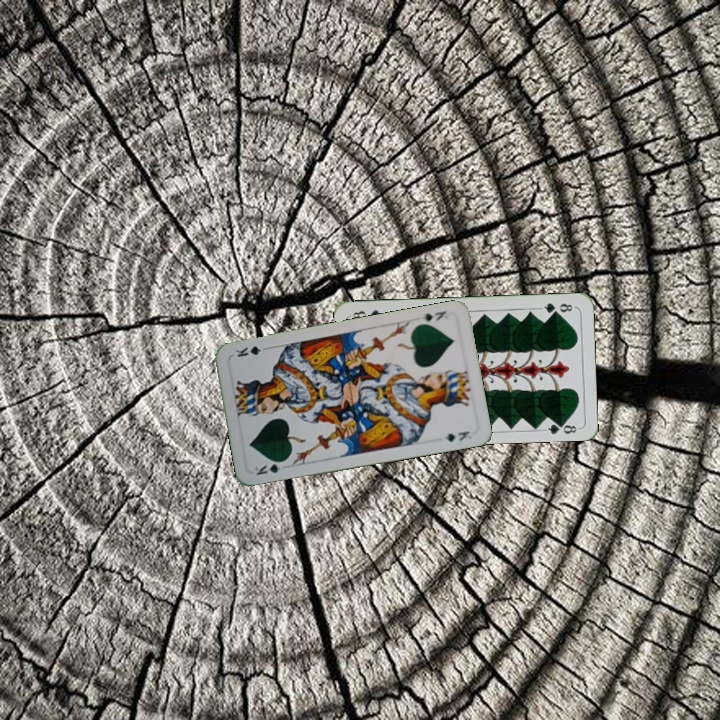G8: (537, 299, 577, 316)
GK: (251, 457, 289, 478), (417, 307, 448, 324)
